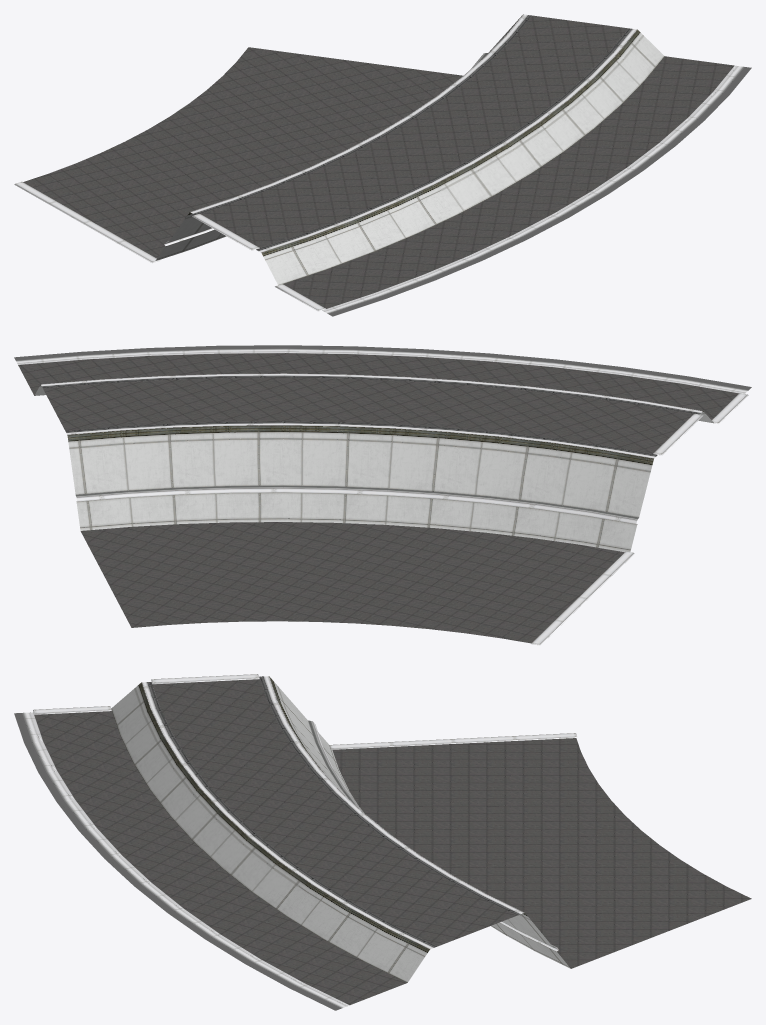
Rendered from Club_PromenadeFloor_01.FBX.
3 views of the same model, one above another, from view 1: azimuth 30°, elevation 25°; view 2: azimuth 150°, elevation 25°; view 3: azimuth 270°, elevation 25° (orthographic). The views are drawn at different scales.
Parts seen in each view (by area): view 1: Club_PromenadeFloor_01; view 2: Club_PromenadeFloor_01; view 3: Club_PromenadeFloor_01.
Part boxes in pixels (box(x1,y1,x2,y2)): Club_PromenadeFloor_01: box(14, 14, 751, 316); Club_PromenadeFloor_01: box(14, 345, 751, 645); Club_PromenadeFloor_01: box(14, 674, 751, 1010).
Size of the model in its own units: 42.5 by 4.55 by 40.54.
